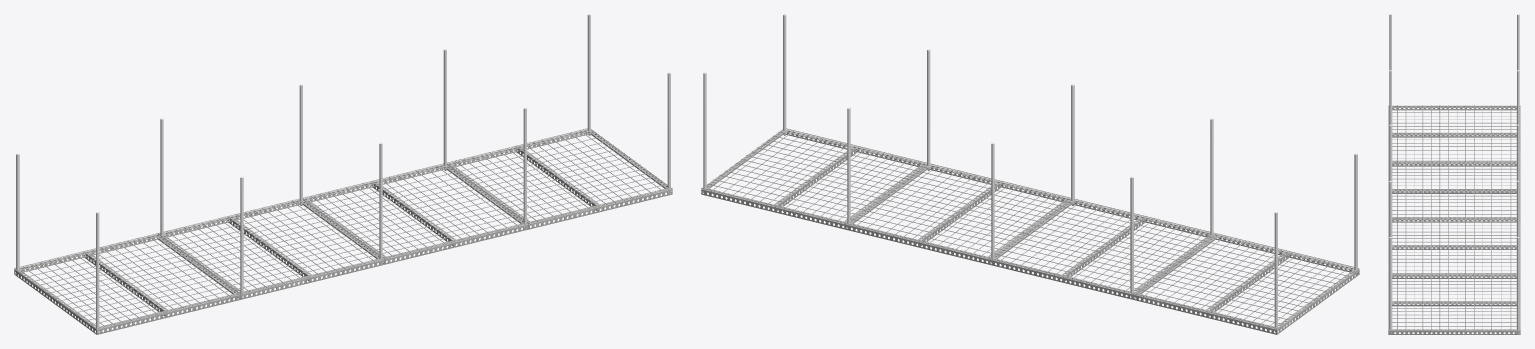
3 views of the same model, side by side, from view 1: azimuth 30°, elevation 25°; view 2: azimuth 150°, elevation 25°; view 3: azimuth 270°, elevation 25° (orthographic). The views are drawn at different scales.
Visible parts, largest first — view 1: Grill004, Rods004; view 2: Grill004, Rods004; view 3: Grill004, Rods004.
Part boxes in pixels (x1,y1,x2,y2): Grill004: [14, 128, 672, 334]; Rods004: [16, 14, 670, 333]; Grill004: [701, 128, 1359, 334]; Rods004: [703, 14, 1357, 333]; Grill004: [1388, 105, 1520, 334]; Rods004: [1389, 14, 1519, 333].
Bounding box in the file's own units: 124 × 24.98 × 30.94.
2 materials, 1 textured.
